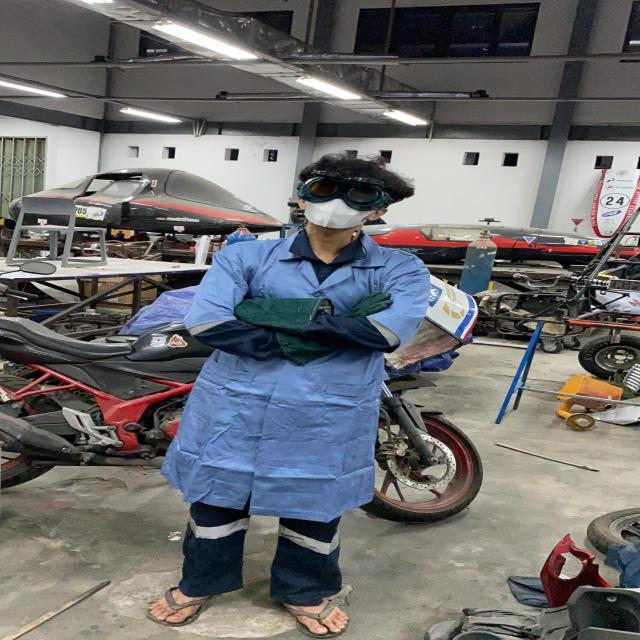glasses: (292, 166, 398, 212)
